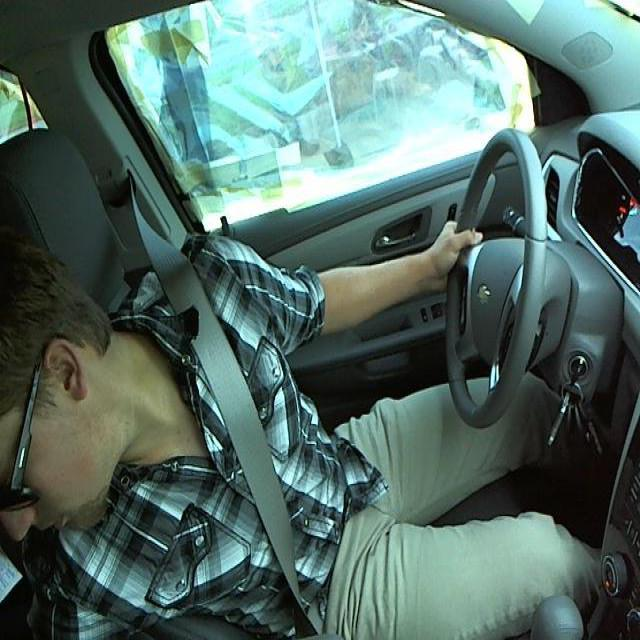seatbelt: (153, 284, 340, 631)
